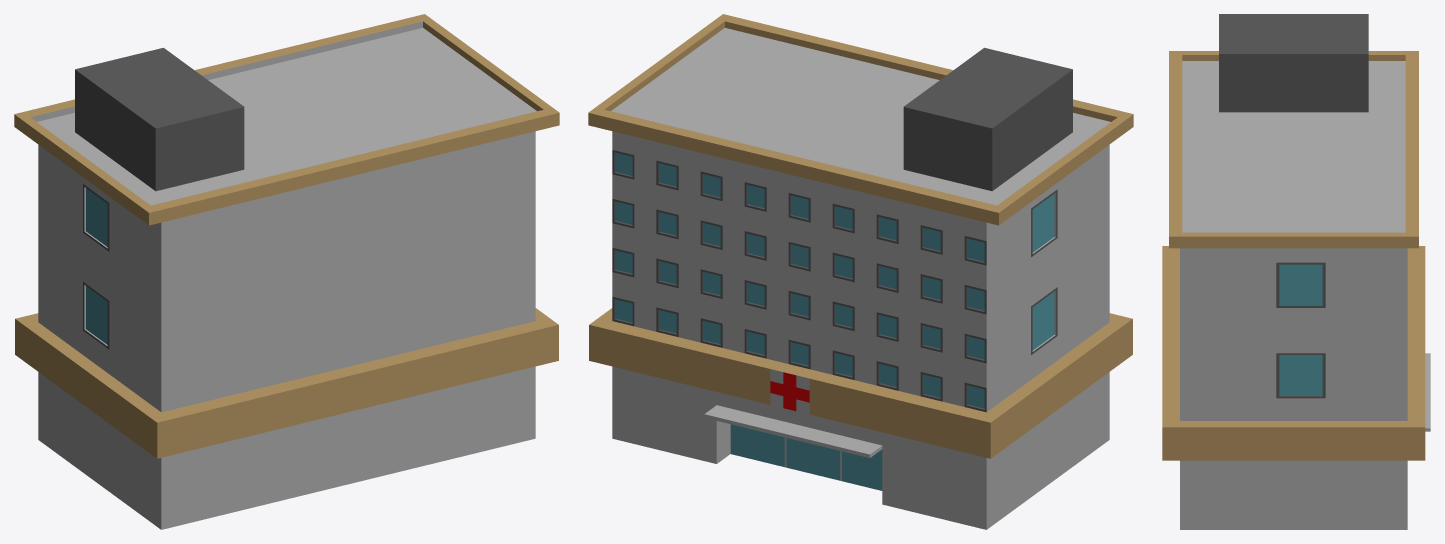
The model's file is hospital.glb.
3 renders of one model, left to right at view 1: azimuth 30°, elevation 25°; view 2: azimuth 150°, elevation 25°; view 3: azimuth 270°, elevation 25°, orthographic. The views are drawn at different scales.
Parts seen in each view (by area): view 1: Hospital; view 2: Hospital; view 3: Hospital.
Part boxes in pixels (<box>): Hospital: <box>14,14,559,529</box>; Hospital: <box>588,14,1133,529</box>; Hospital: <box>1162,14,1430,529</box>.
Bounding box in the file's own units: 110 × 98.07 × 67.36.
